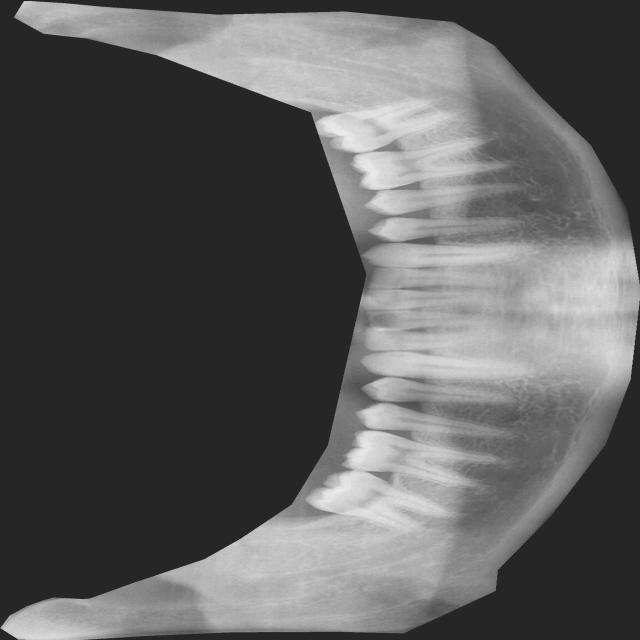mandibula: (0, 0, 640, 640)
